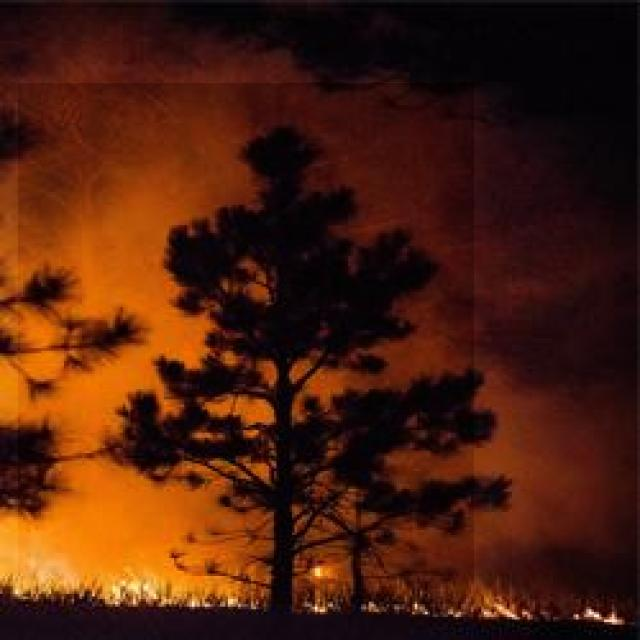Smoke: (18, 83, 474, 604)
